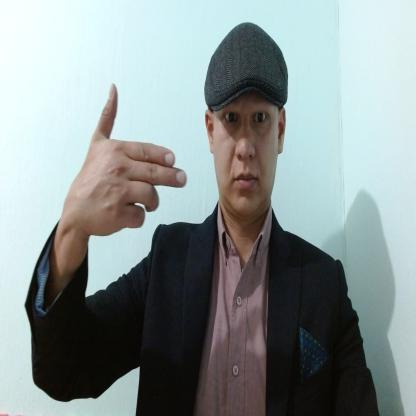H: (64, 83, 188, 236)
